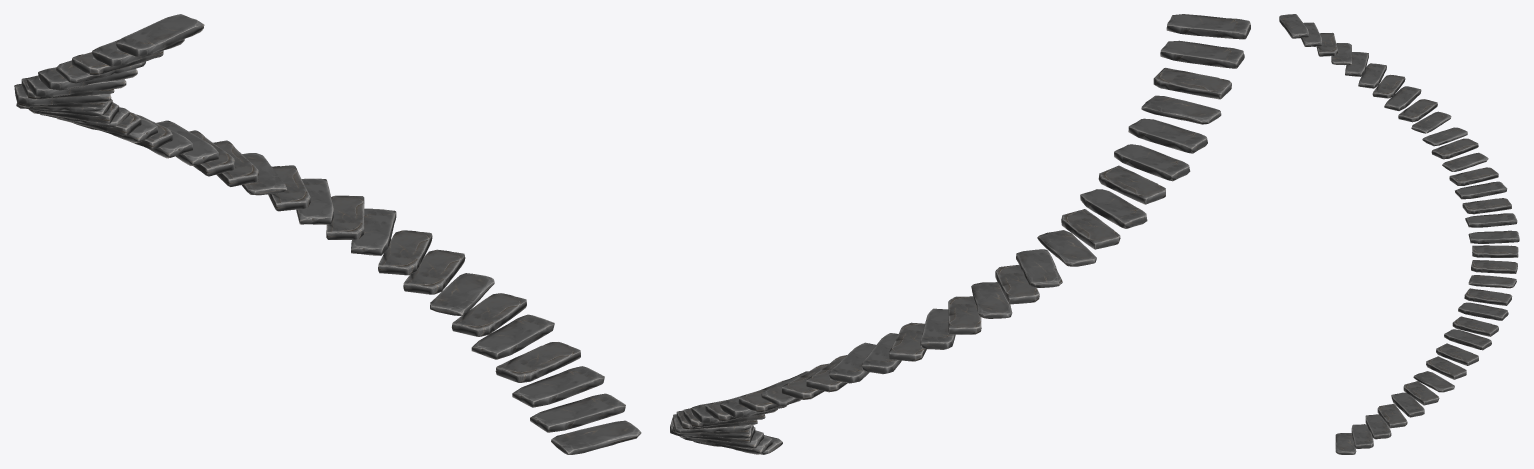
The model's file is SM_InteriorStairs_01.fbx.
3 views of the same model, side by side, from view 1: azimuth 30°, elevation 25°; view 2: azimuth 150°, elevation 25°; view 3: azimuth 270°, elevation 25° (orthographic). The views are drawn at different scales.
Parts seen in each view (by area): view 1: SM_InteriorStairs_01_LOD0; view 2: SM_InteriorStairs_01_LOD0; view 3: SM_InteriorStairs_01_LOD0.
Part boxes in pixels (bbox=[...]): SM_InteriorStairs_01_LOD0: bbox=[14, 14, 641, 454]; SM_InteriorStairs_01_LOD0: bbox=[670, 14, 1250, 454]; SM_InteriorStairs_01_LOD0: bbox=[1279, 14, 1519, 454].
Size of what is drawn, in the model's own units: 10.9 by 10.15 by 7.45.
